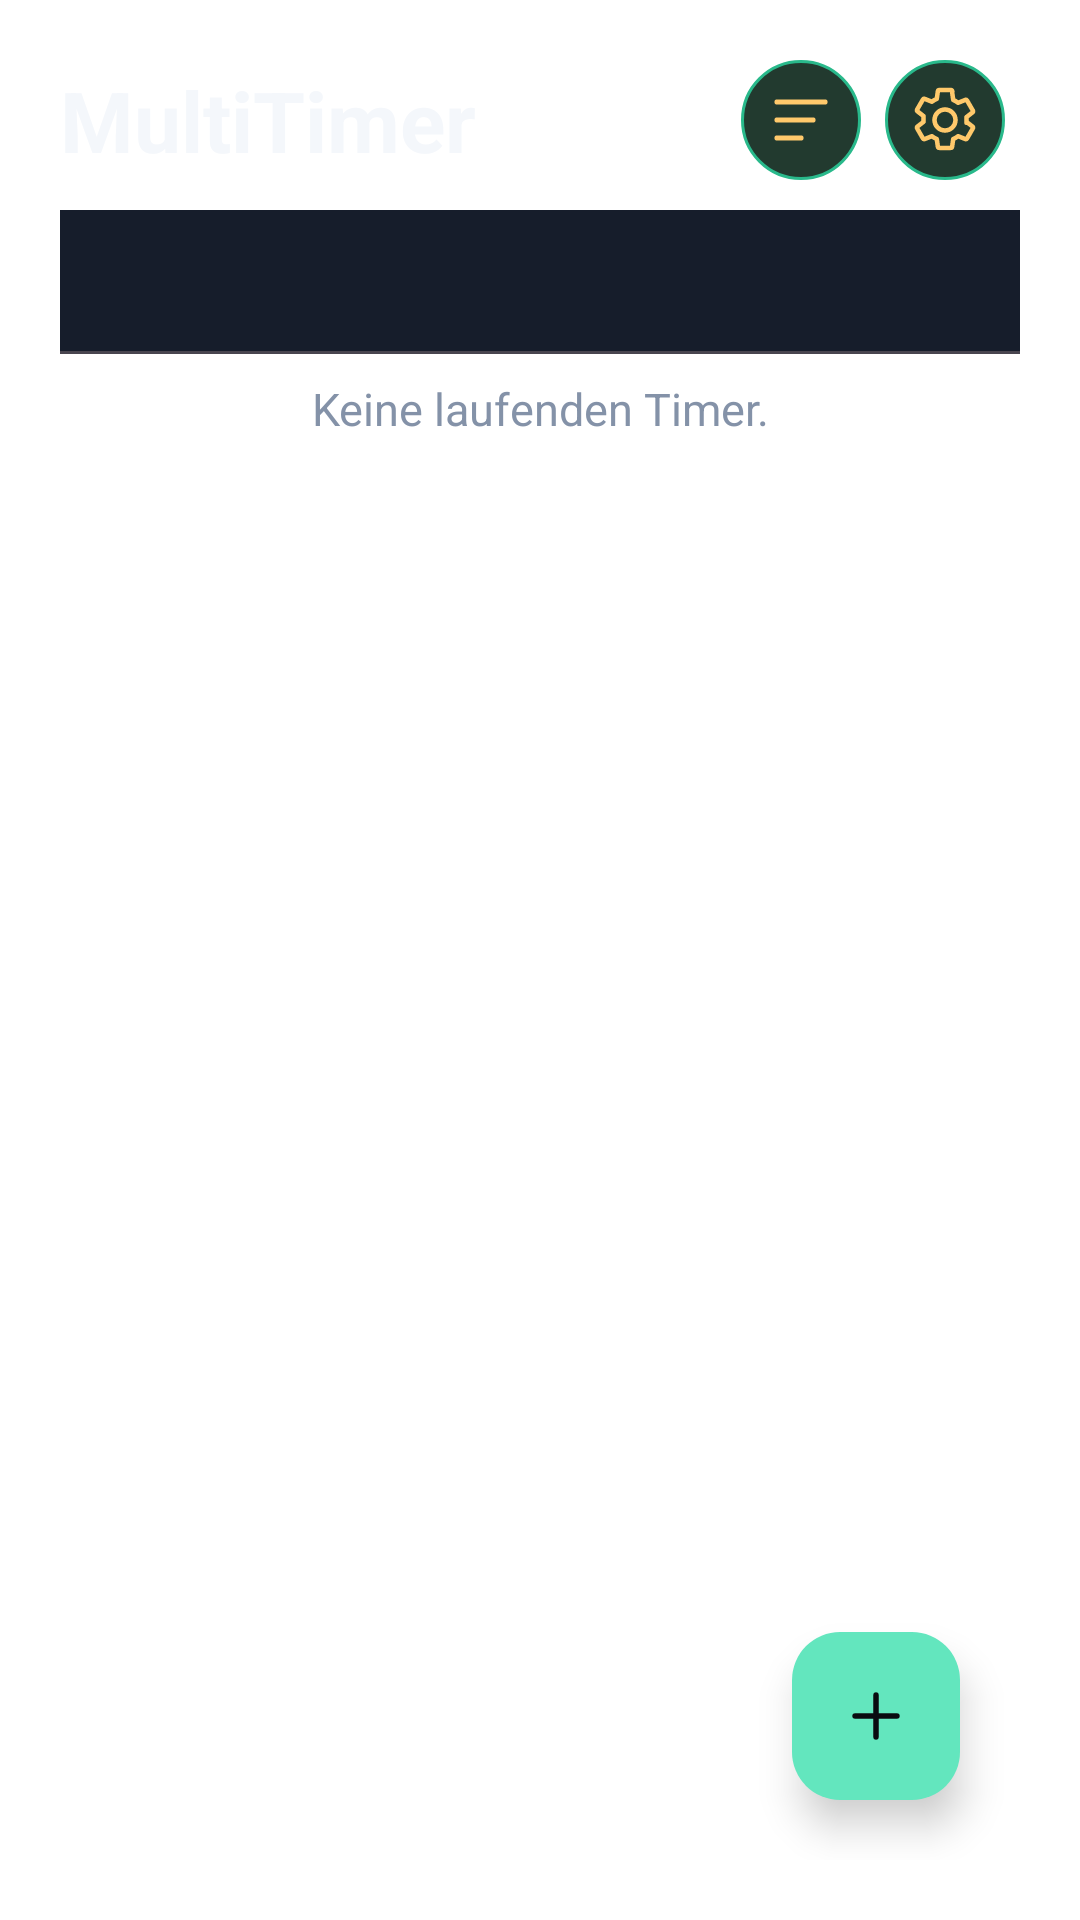

Icons on this 1080 x 1920 Android screen, each with the point to tap as point (x, y):
Einstellungen: point (945, 120)
Neuer Timer: point (876, 1716)
Sortieren: point (801, 120)
